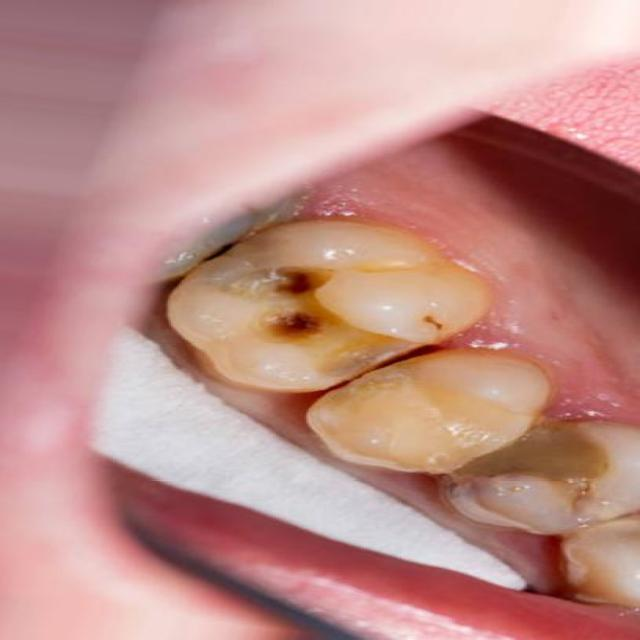caries: (173, 222, 437, 385), (424, 398, 640, 538)
